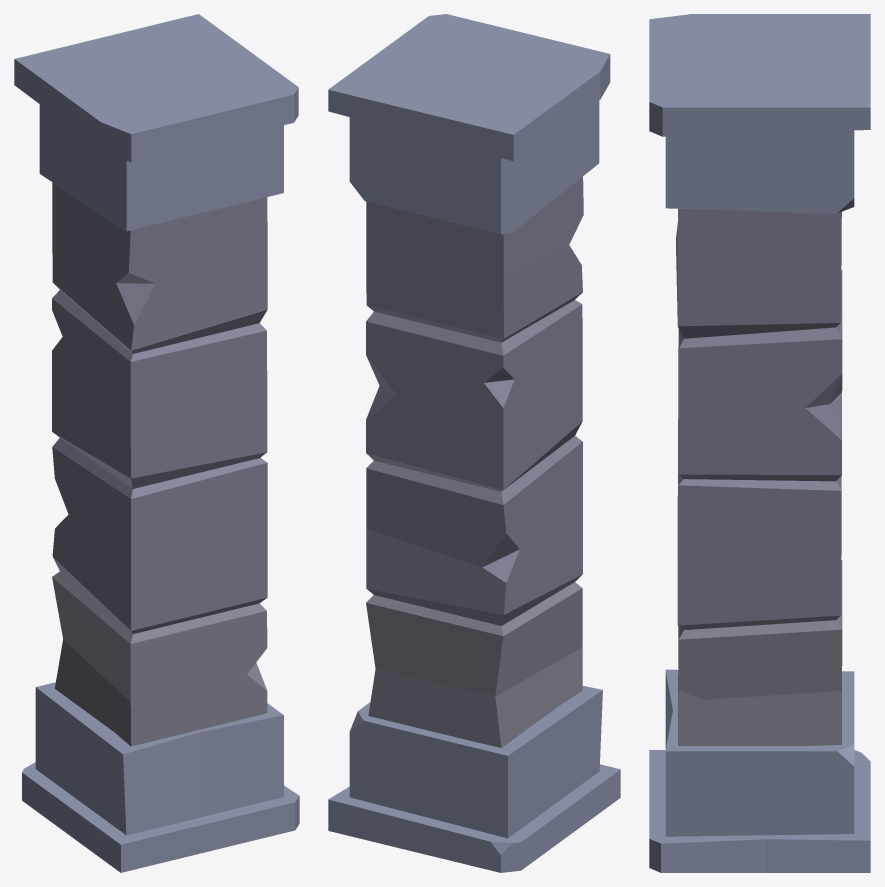
File: pillar_1.fbx
3 renders of one model, left to right at view 1: azimuth 30°, elevation 25°; view 2: azimuth 150°, elevation 25°; view 3: azimuth 270°, elevation 25°, orthographic. The views are drawn at different scales.
Parts seen in each view (by area): view 1: pillar; view 2: pillar; view 3: pillar.
Boxes of the visible parts, x1,y1,x2,y2 form: pillar: (14, 14, 299, 872); pillar: (328, 14, 620, 872); pillar: (649, 14, 870, 872).
Bounding box in the file's own units: 119 × 453 × 119.
